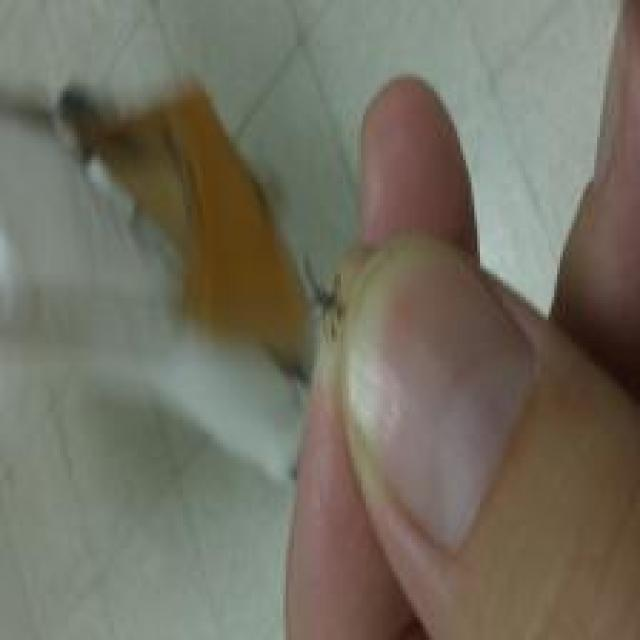Aedes albopictus: (53, 74, 321, 386)
